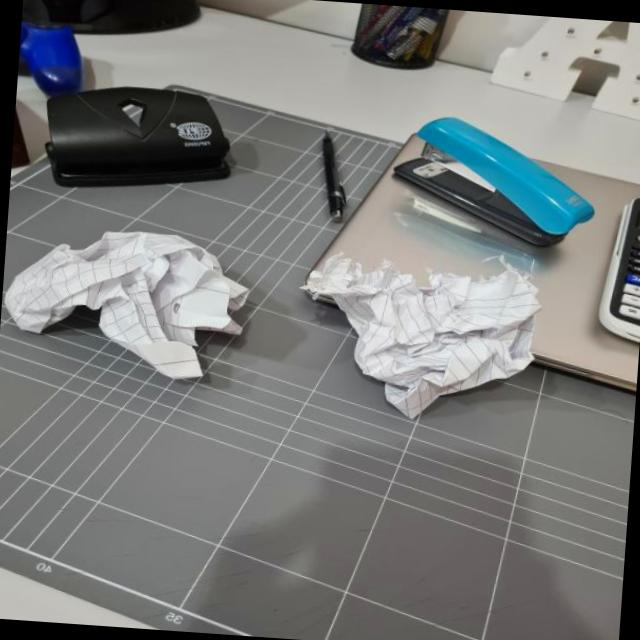cardboard paper: (305, 251, 540, 415), (6, 229, 249, 375)
